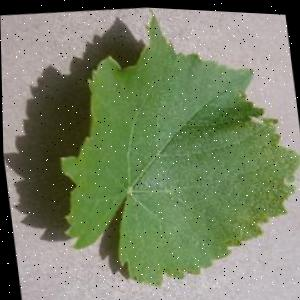Folha: (34, 1, 300, 299)
